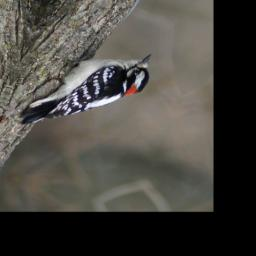Woodpecker: (16, 29, 158, 154)
